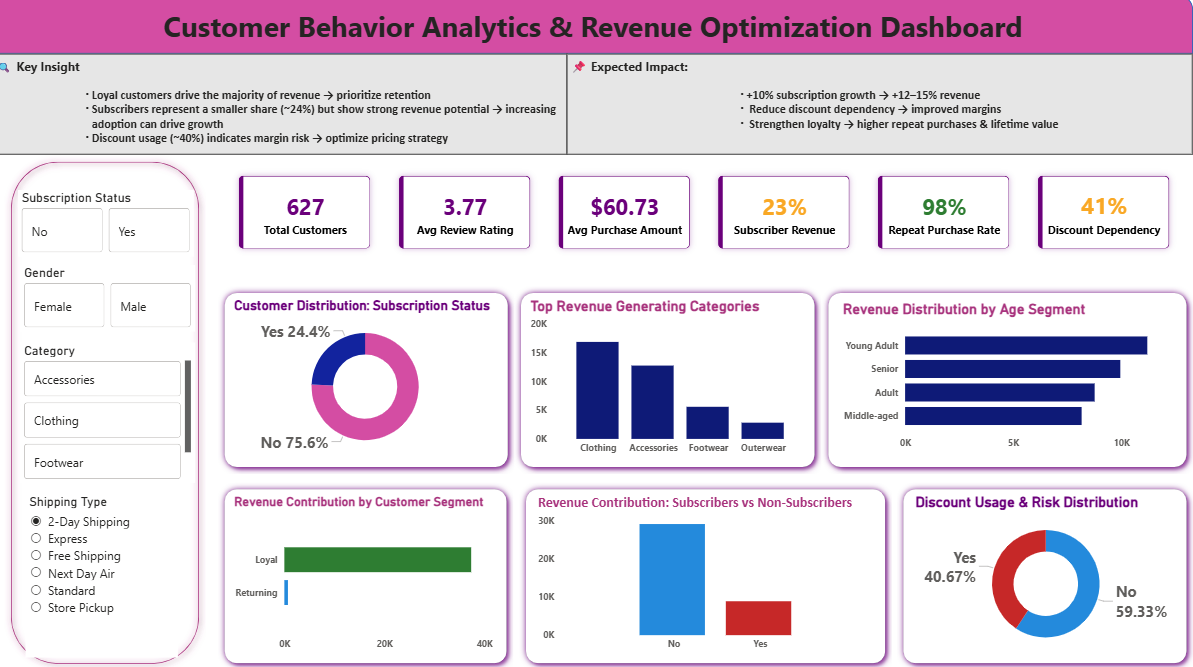

The page's visual inventory and layout, read from the dashboard file:
{"tool":"powerbi","page":{"name":"Page 2","canvas":[1600,900],"ordinal":0},"visuals":[{"type":"shape","box":[0,0,1600,78.2],"z":0},{"type":"textbox","box":[0,10.9,1600,67.3],"z":1000},{"type":"cardVisual","fields":{"Data":["customer_behaviour.Number of Customers","customer_behaviour.Average Review Rating","customer_behaviour.Average Purchase Amount","customer_behaviour.Subscriber Revenue %","customer_behaviour.Repeat Purchase Rate","customer_behaviour.Discount Dependency %"]},"box":[300,212.5,1300,153.1],"z":2000},{"type":"shape","box":[15.6,212.5,268.8,687.5],"z":3000},{"type":"advancedSlicerVisual","fields":{"Values":["customer_behavior customers.subscription_status"]},"box":[32.8,259.4,234.4,89.1],"z":4000},{"type":"advancedSlicerVisual","fields":{"Values":["customer_behavior customers.gender"]},"box":[35.9,359.4,232.8,89.1],"z":5000},{"type":"advancedSlicerVisual","fields":{"Values":["customer_behavior customers.category"]},"box":[35.9,462.5,232.8,187.5],"z":6000},{"type":"listSlicer","fields":{"Values":["customer_behavior customers.shipping_type"]},"box":[43.8,665.6,203.1,218.8],"z":7000},{"type":"shape","box":[300,387.5,395.3,250],"z":8000},{"type":"shape","box":[695.3,387.5,409.4,250],"z":9000},{"type":"shape","box":[1104.7,387.5,495.3,250],"z":10000},{"type":"donutChart","title":"Customer Distribution: Subscription Status","fields":{"Y":["CountNonNull(customer_behavior customers.customer_id)"],"Category":["customer_behavior customers.subscription_status"]},"box":[317.2,403.1,359.4,217.2],"z":11000},{"type":"clusteredColumnChart","title":"Top Revenue Generating Categories","fields":{"Y":["Sum(customer_behavior customers.purchase_amount)"],"Category":["customer_behavior customers.category"]},"box":[710.9,403.1,379.7,218.8],"z":12000},{"type":"clusteredBarChart","title":"Revenue Distribution by Age Segment","fields":{"Y":["Sum(customer_behavior customers.purchase_amount)"],"Category":["customer_behavior customers.age_group"]},"box":[1128.1,407.8,450,207.8],"z":13000},{"type":"shape","box":[300,650,393.8,250],"z":14000},{"type":"clusteredBarChart","title":"Revenue Contribution by Customer Segment","fields":{"Category":["customer_behaviour.Customer Segment"],"Y":["customer_behaviour.Segment Revenue"]},"box":[317.2,665.6,354.7,218.8],"z":15000},{"type":"shape","box":[701.6,650,496.9,250],"z":16000},{"type":"clusteredColumnChart","title":"Revenue Contribution: Subscribers vs Non-Subscribers","fields":{"Category":["customer_behaviour.subscription_status"],"Y":["customer_behaviour.Total Revenue"]},"box":[721.9,665.6,456.2,218.8],"z":17000},{"type":"shape","box":[1204.7,650,395.3,250],"z":18000},{"type":"donutChart","title":"Discount Usage & Risk Distribution","fields":{"Category":["customer_behaviour.discount_applied"],"Y":["customer_behaviour.Total Orders"]},"box":[1225,665.6,357.8,218.8],"z":19000},{"type":"textbox","box":[0,78.1,765.6,134.4],"z":20000},{"type":"textbox","box":[765.6,78.1,834.4,134.4],"z":21000}]}

Visuals, with their boxes in screenshot pixels (x1, y1, x2, y2), scaled from the page's 1600x900 canvas onto the 1193x667 screenshot:
shape: [left=0, top=0, right=1192, bottom=58]
textbox: [left=0, top=8, right=1192, bottom=58]
cardVisual - customer_behaviour.Number of Customers x customer_behaviour.Average Review Rating: [left=224, top=157, right=1192, bottom=271]
shape: [left=12, top=157, right=212, bottom=666]
advancedSlicerVisual - customer_behavior customers.subscription_status: [left=24, top=192, right=199, bottom=258]
advancedSlicerVisual - customer_behavior customers.gender: [left=27, top=266, right=200, bottom=332]
advancedSlicerVisual - customer_behavior customers.category: [left=27, top=343, right=200, bottom=482]
listSlicer - customer_behavior customers.shipping_type: [left=33, top=493, right=184, bottom=655]
shape: [left=224, top=287, right=518, bottom=472]
shape: [left=518, top=287, right=824, bottom=472]
shape: [left=824, top=287, right=1192, bottom=472]
"Customer Distribution: Subscription Status" donutChart: [left=237, top=299, right=504, bottom=460]
"Top Revenue Generating Categories" clusteredColumnChart: [left=530, top=299, right=813, bottom=461]
"Revenue Distribution by Age Segment" clusteredBarChart: [left=841, top=302, right=1177, bottom=456]
shape: [left=224, top=482, right=517, bottom=666]
"Revenue Contribution by Customer Segment" clusteredBarChart: [left=237, top=493, right=501, bottom=655]
shape: [left=523, top=482, right=894, bottom=666]
"Revenue Contribution: Subscribers vs Non-Subscribers" clusteredColumnChart: [left=538, top=493, right=878, bottom=655]
shape: [left=898, top=482, right=1192, bottom=666]
"Discount Usage & Risk Distribution" donutChart: [left=913, top=493, right=1180, bottom=655]
textbox: [left=0, top=58, right=571, bottom=157]
textbox: [left=571, top=58, right=1192, bottom=157]
